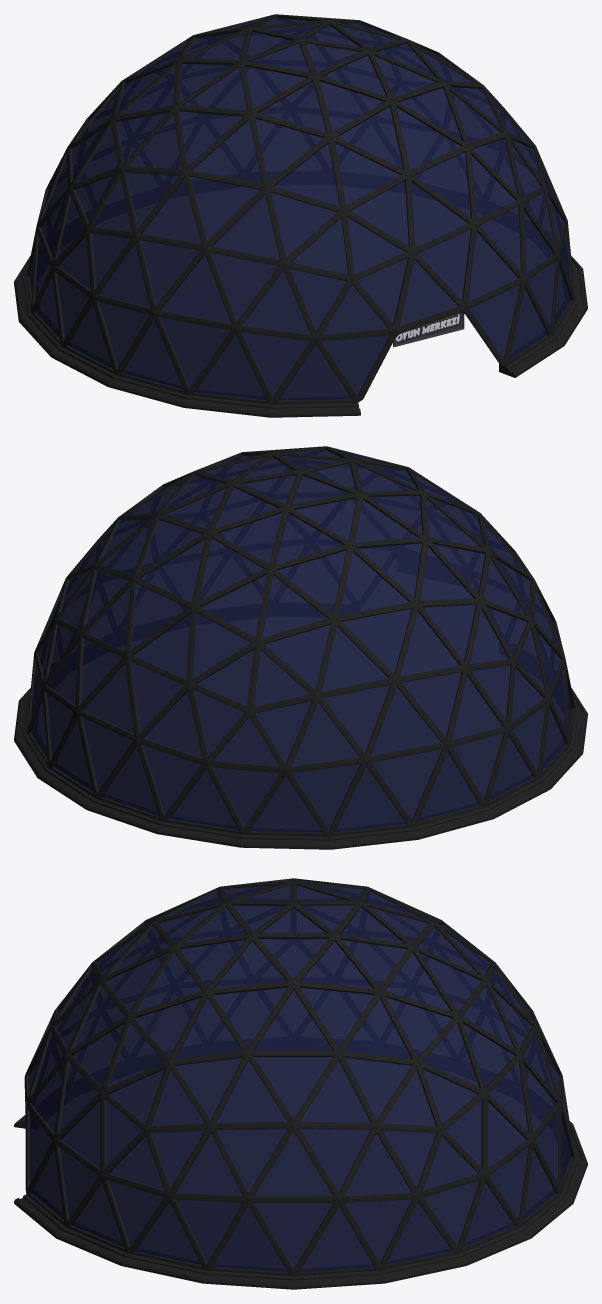
The model's file is dome.glb.
The picture shows the model from 3 angles, top to bottom: view 1: azimuth 30°, elevation 25°; view 2: azimuth 150°, elevation 25°; view 3: azimuth 270°, elevation 25°; orthographic projection.
Parts seen in each view (by area): view 1: Icosphere.002, bilgi_m_t; view 2: Icosphere.002; view 3: Icosphere.002.
Boxes of the visible parts, x1,y1,x2,y2 form: Icosphere.002: (14, 14, 587, 417); bilgi_m_t: (393, 312, 464, 347); Icosphere.002: (14, 446, 587, 849); Icosphere.002: (14, 878, 587, 1289).
Size of the model in its own units: 33.08 by 16.3 by 32.27.
5 materials, 1 textured.
